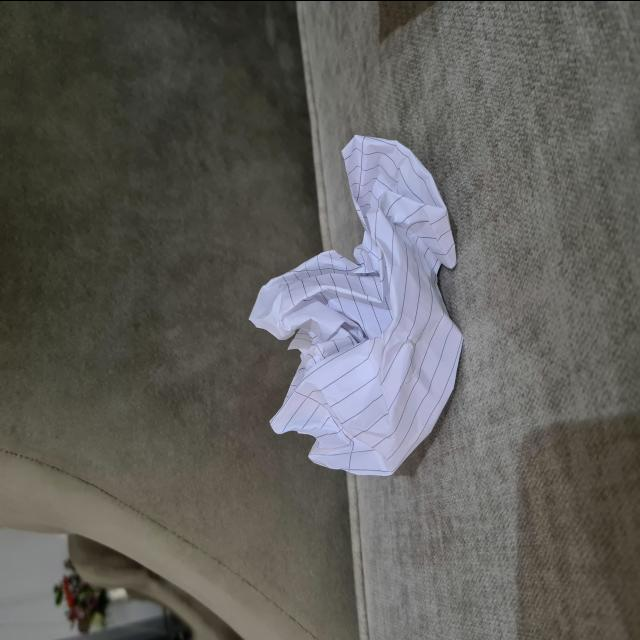Paper: (236, 134, 476, 490)
